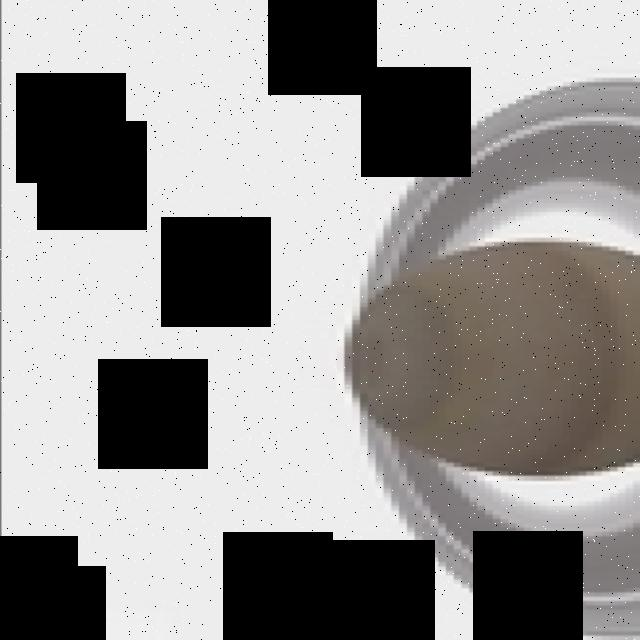Saturn: (343, 69, 640, 640)
